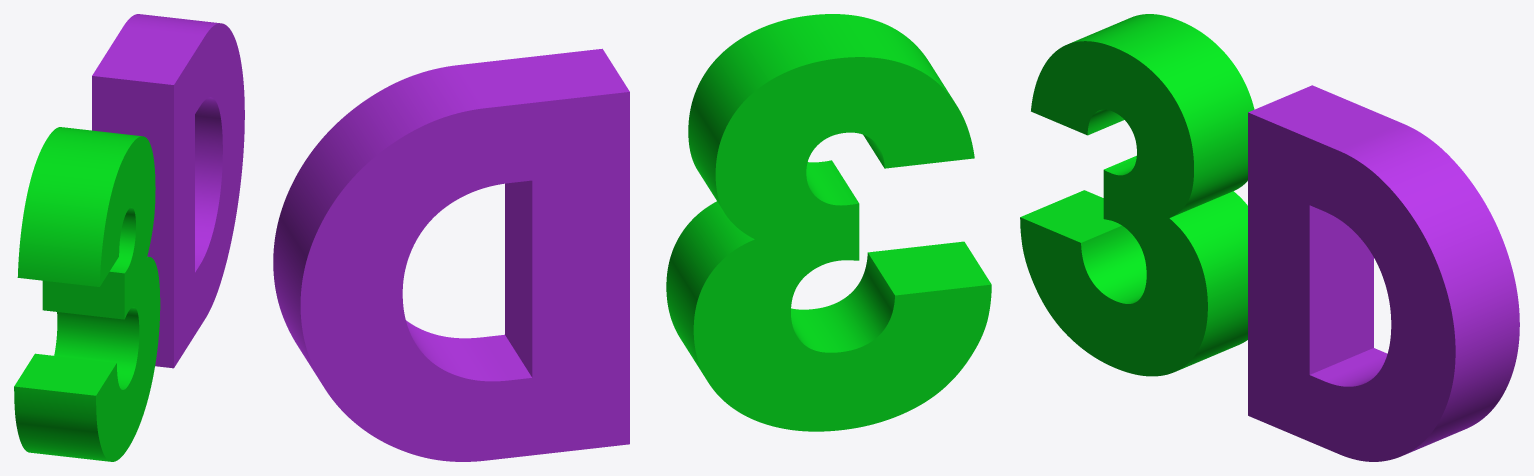
3 views of the same model, side by side, from view 1: azimuth 30°, elevation 25°; view 2: azimuth 150°, elevation 25°; view 3: azimuth 270°, elevation 25° (orthographic). The views are drawn at different scales.
Visible parts, largest first — view 1: Mesh_0, Mesh_1; view 2: Mesh_1, Mesh_0; view 3: Mesh_1, Mesh_0.
Part boxes in pixels (left/top/right/bottom): Mesh_0: left=14, top=127, right=160, bottom=461; Mesh_1: left=92, top=14, right=244, bottom=368; Mesh_1: left=273, top=48, right=629, bottom=461; Mesh_0: left=666, top=14, right=991, bottom=431; Mesh_1: left=1248, top=85, right=1519, bottom=461; Mesh_0: left=1020, top=14, right=1254, bottom=376.
Bounding box in the file's own units: 45.6 × 32.25 × 45.6.
